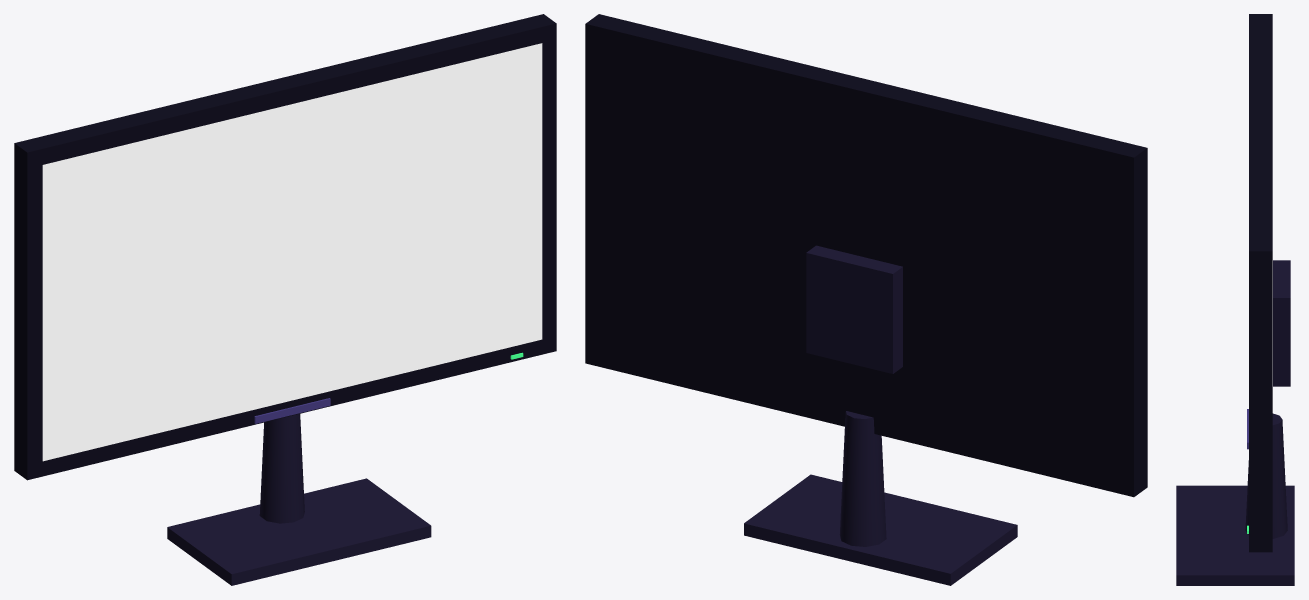
Rendered from monitor.glb.
3 views of the same model, side by side, from view 1: azimuth 30°, elevation 25°; view 2: azimuth 150°, elevation 25°; view 3: azimuth 270°, elevation 25° (orthographic). The views are drawn at different scales.
Visible parts, largest first — view 1: SCREEN, monitor; view 2: monitor; view 3: monitor.
Boxes of the visible parts, x1,y1,x2,y2 form: SCREEN: (42, 43, 542, 461); monitor: (14, 14, 556, 585); monitor: (585, 14, 1147, 585); monitor: (1176, 14, 1294, 585).
Size of the model in its own units: 0.6312 by 0.5066 by 0.1333.
